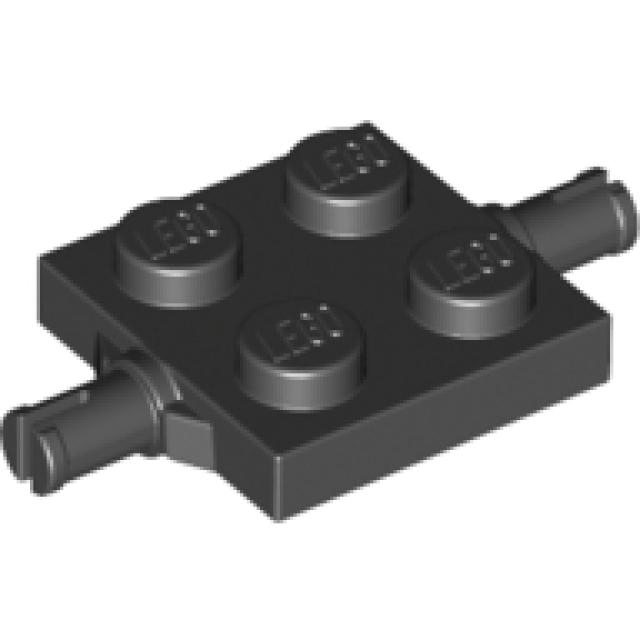Black_Medium: (0, 123, 633, 523)
